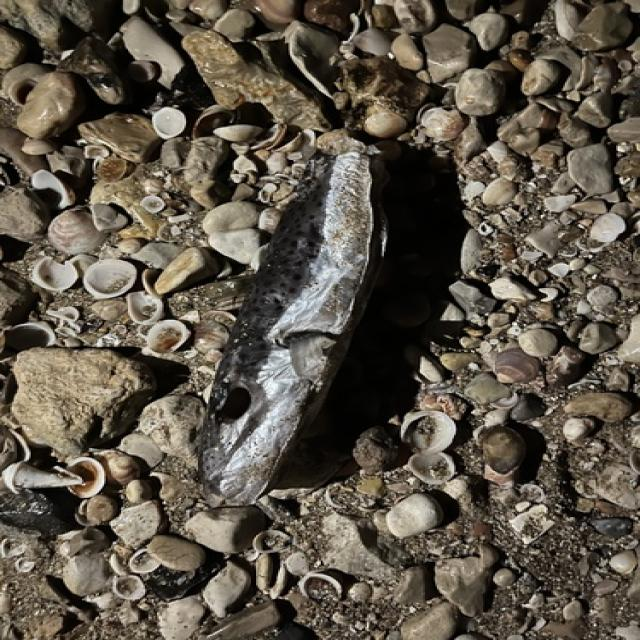Balik: (200, 152, 383, 505)
